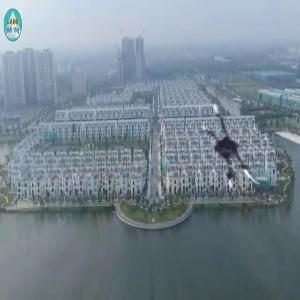drone: (192, 102, 284, 194)
